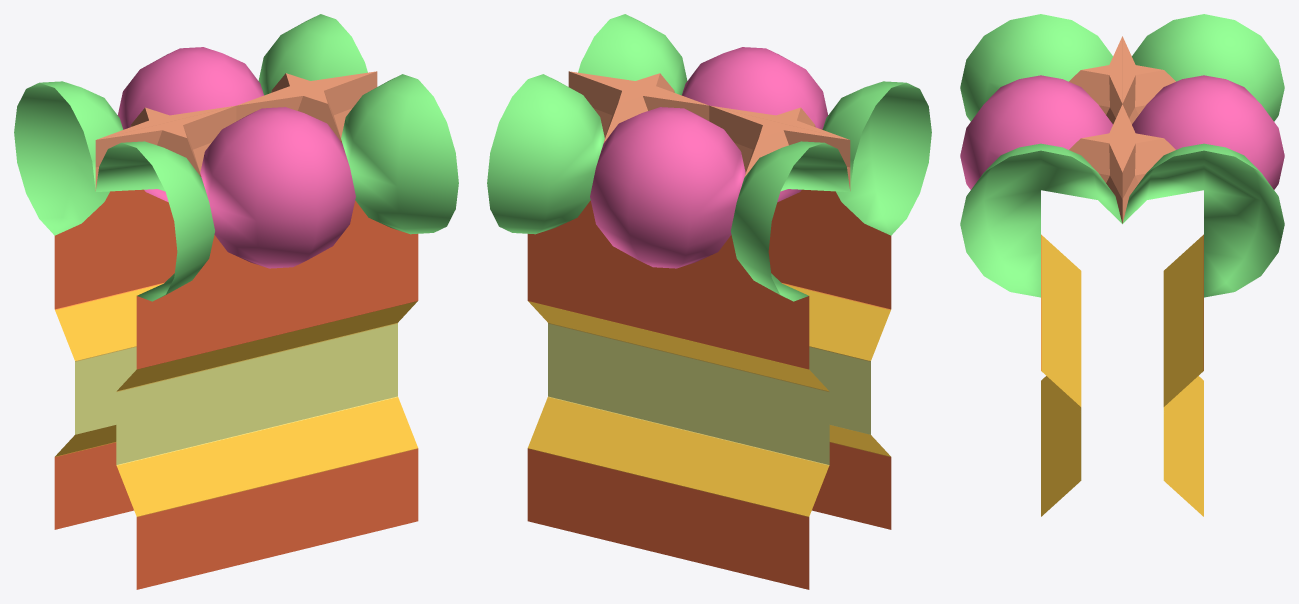
File: Wall.fbx
3 renders of one model, left to right at view 1: azimuth 30°, elevation 25°; view 2: azimuth 150°, elevation 25°; view 3: azimuth 270°, elevation 25°, orthographic.
Parts seen in each view (by area): view 1: Sphere; view 2: Sphere; view 3: Sphere.
Part boxes in pixels (x1,y1,x2,y2): Sphere: (14, 14, 458, 589); Sphere: (487, 14, 931, 589); Sphere: (960, 14, 1284, 516).
Bounding box in the file's own units: 4 × 6 × 4.02.
